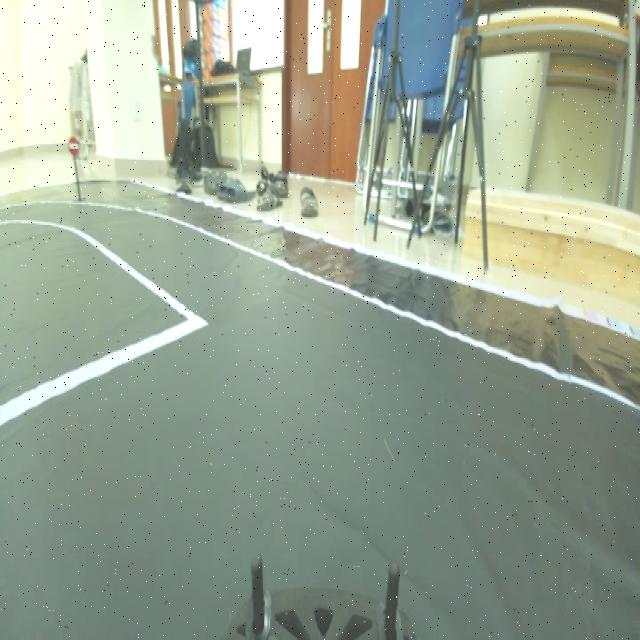no_entry: (64, 126, 81, 162)
